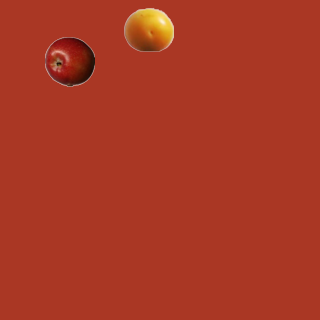Apple Braeburn: (44, 36, 94, 86)
Cherry Wax Yellow: (123, 4, 173, 54)
